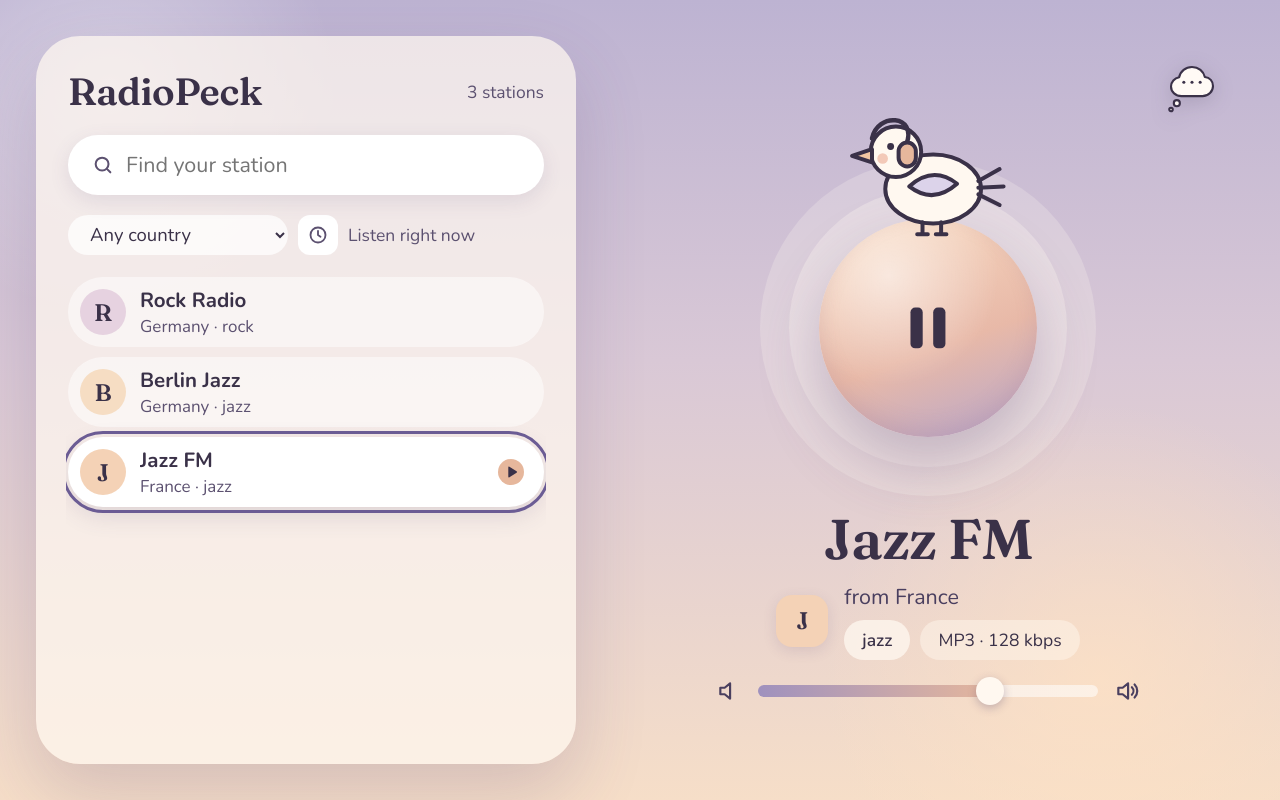
Test: App: recently played › returns to the usual list when the clock is clicked again
Earlier steps of the test are not shown.
Click the button named "Recently played" at {"x": 318, "y": 235}, box [298,215,338,255]
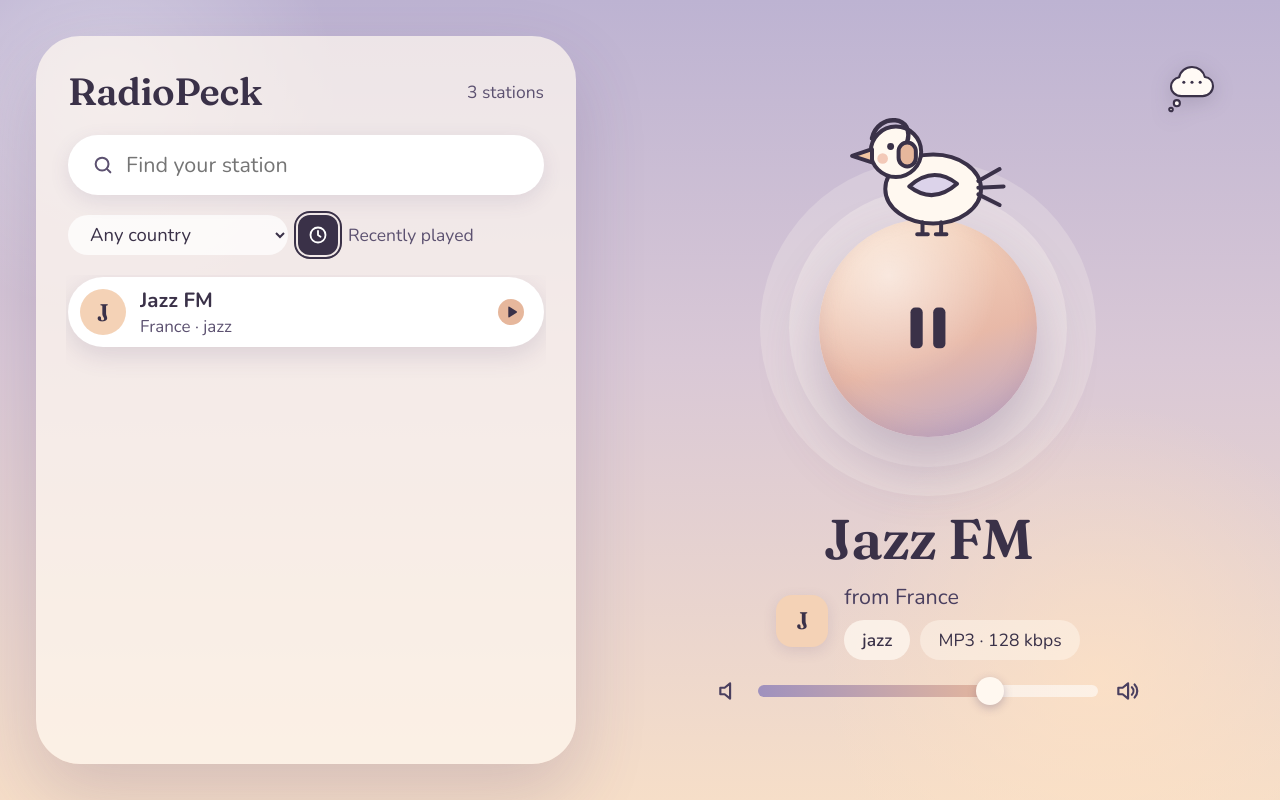
Result: the text "Recently played" is shown at [348,223,474,247]
Click the button named "Recently played" at {"x": 318, "y": 235}, box [298,215,338,255]
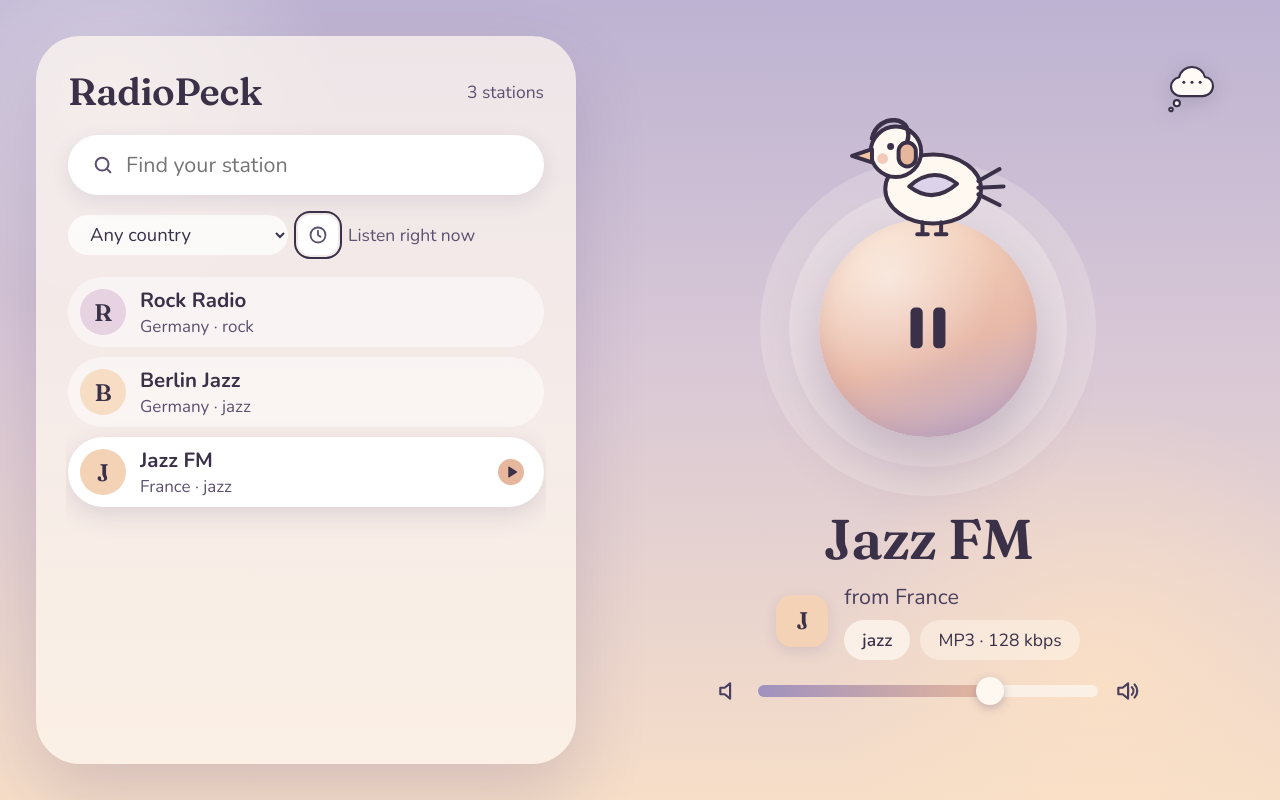
Result: the text "Listen right now" is shown at [348,223,475,247]
